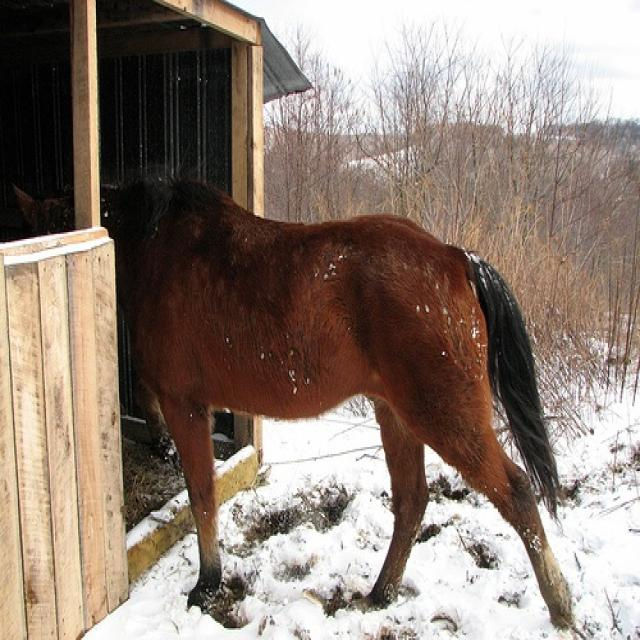horse: (13, 174, 575, 632)
